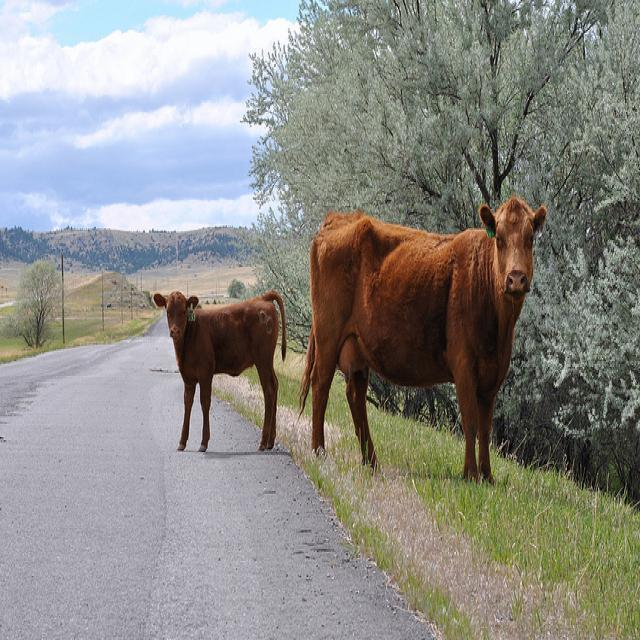cow: (294, 188, 545, 486), (152, 287, 284, 457)
